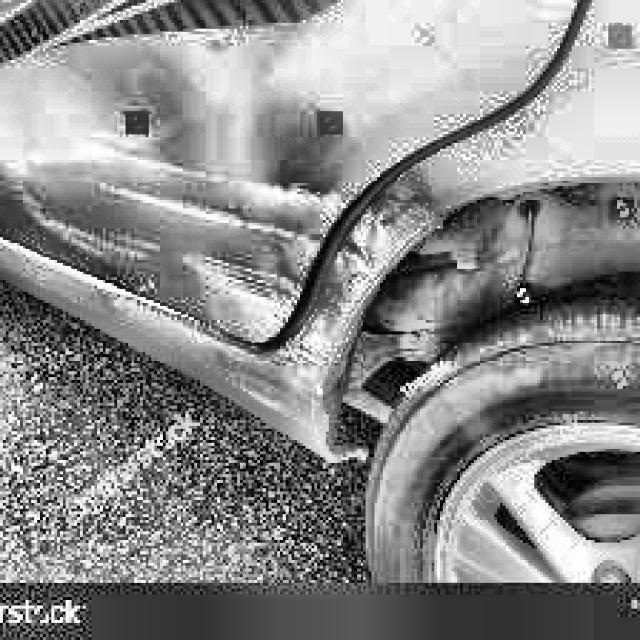door_dent: (42, 143, 418, 321)
